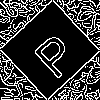P: (24, 24, 80, 81)
